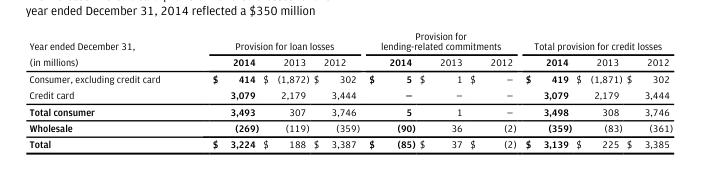table: (28, 29, 672, 149)
table column: (28, 29, 185, 149), (185, 29, 260, 149), (465, 29, 520, 149), (310, 29, 363, 149), (363, 29, 416, 149), (520, 29, 573, 149), (260, 29, 310, 149), (573, 29, 623, 149), (416, 29, 465, 149), (623, 29, 672, 149)
table column header: (28, 29, 672, 69)
table row: (28, 29, 672, 53), (28, 69, 672, 86), (28, 102, 672, 119), (28, 53, 672, 69), (28, 86, 672, 102), (28, 119, 672, 135), (28, 135, 672, 149)
table spanning cell: (28, 29, 185, 69), (185, 29, 363, 53), (363, 29, 520, 53), (520, 29, 672, 53)
